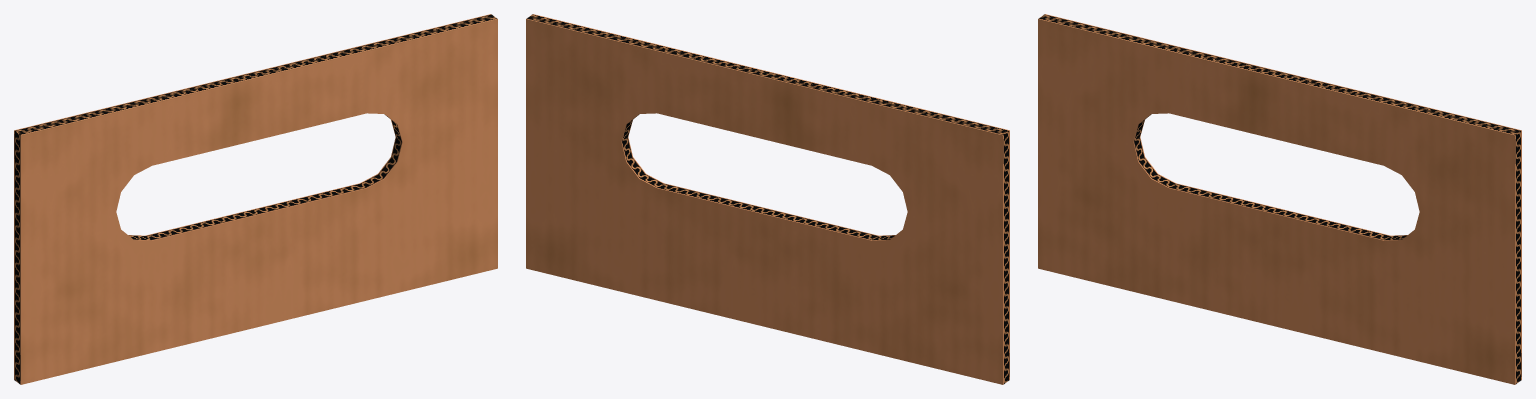
Rendered from M_CardboardPanels_2x1_Window.fbx.
The picture shows the model from 3 angles, left to right: view 1: azimuth 30°, elevation 25°; view 2: azimuth 150°, elevation 25°; view 3: azimuth 330°, elevation 25°; orthographic projection.
Parts seen in each view (by area): view 1: Panels, Edges, WindowEdges; view 2: Panels, Edges, WindowEdges; view 3: Panels, Edges, WindowEdges.
Boxes of the visible parts, x1=… form: Panels: x1=21, y1=19, x2=497, y2=384; Edges: x1=14, y1=14, x2=497, y2=384; WindowEdges: x1=128, y1=114, x2=402, y2=240; Panels: x1=526, y1=19, x2=1002, y2=384; Edges: x1=526, y1=14, x2=1009, y2=384; WindowEdges: x1=621, y1=114, x2=895, y2=240; Panels: x1=1038, y1=19, x2=1514, y2=384; Edges: x1=1038, y1=14, x2=1521, y2=384; WindowEdges: x1=1133, y1=114, x2=1407, y2=240.
Bounding box in the file's own units: 10 × 5 × 0.25.
Materials: 1 (1 with a texture image).
